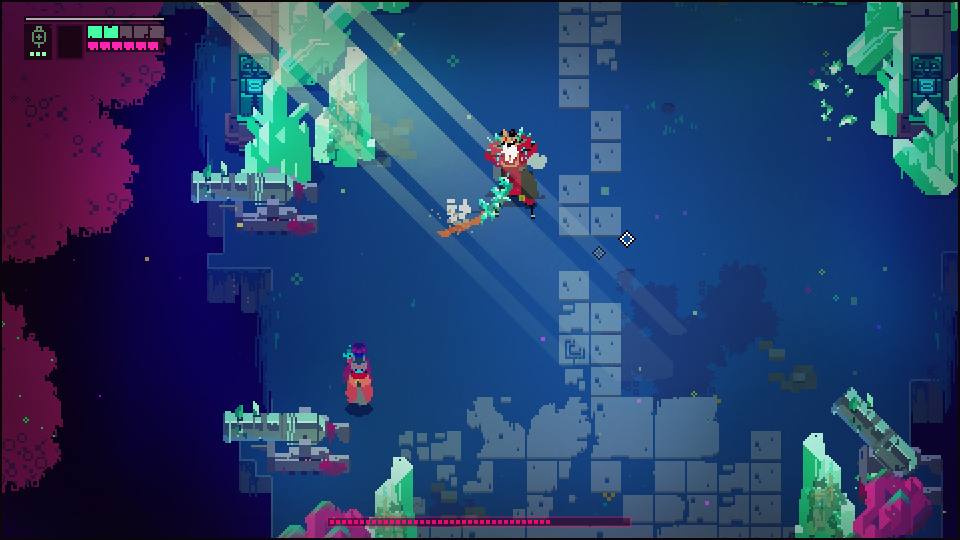hanged_man: (469, 125, 548, 226)
player: (345, 354, 376, 411)
